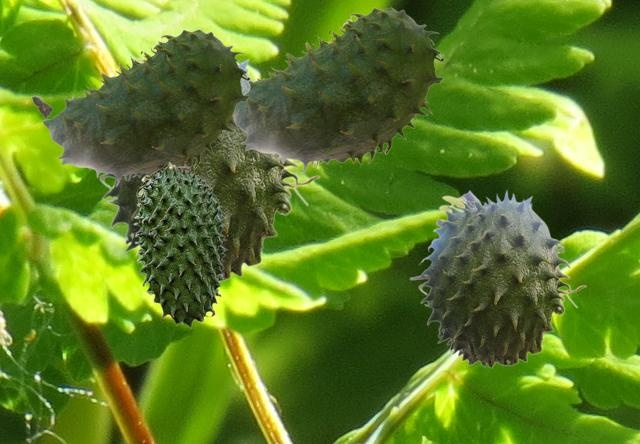guyabano: (88, 57, 320, 282), (234, 7, 443, 173), (31, 29, 249, 186), (409, 188, 586, 368), (133, 161, 227, 327)
